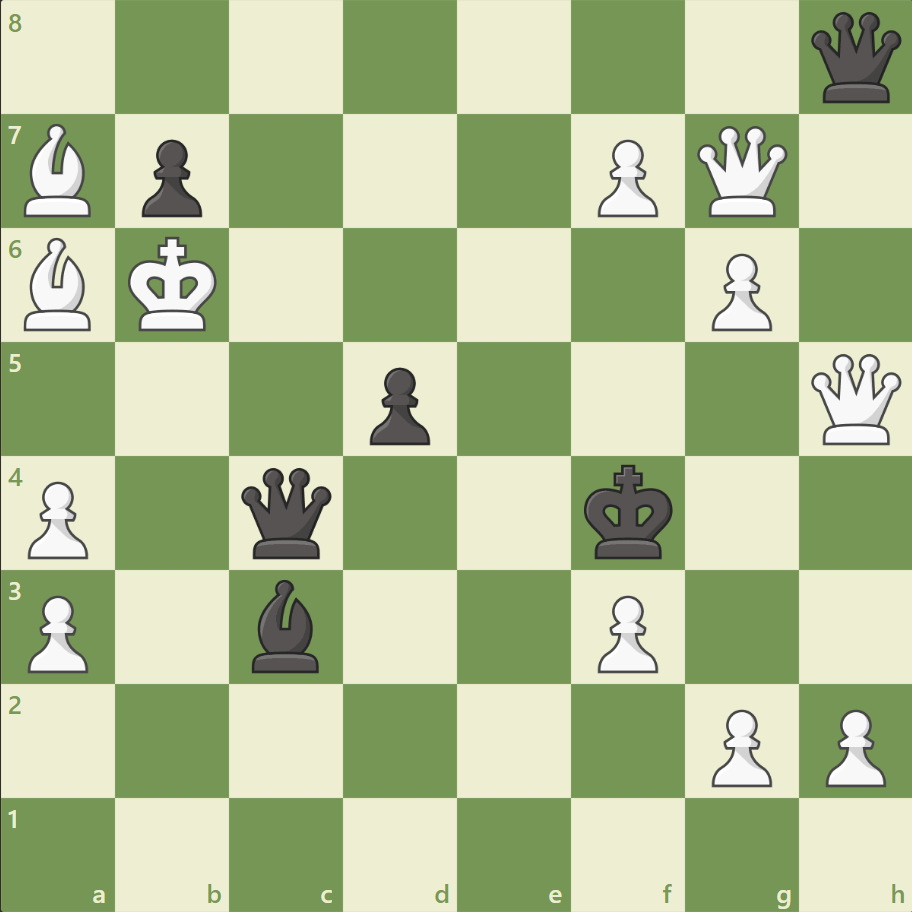B: (17, 233, 101, 336), (17, 120, 101, 222)
K: (124, 231, 224, 339)
P: (701, 246, 776, 337), (20, 473, 95, 564), (20, 586, 95, 677), (701, 700, 776, 791), (588, 132, 662, 223), (588, 586, 662, 677), (815, 700, 889, 791)
Q: (691, 122, 790, 222), (805, 349, 904, 449)
b: (244, 574, 328, 676)
k: (579, 458, 679, 566)
p: (133, 132, 208, 223), (361, 359, 435, 450)
q: (805, 9, 904, 108), (237, 463, 336, 562)
